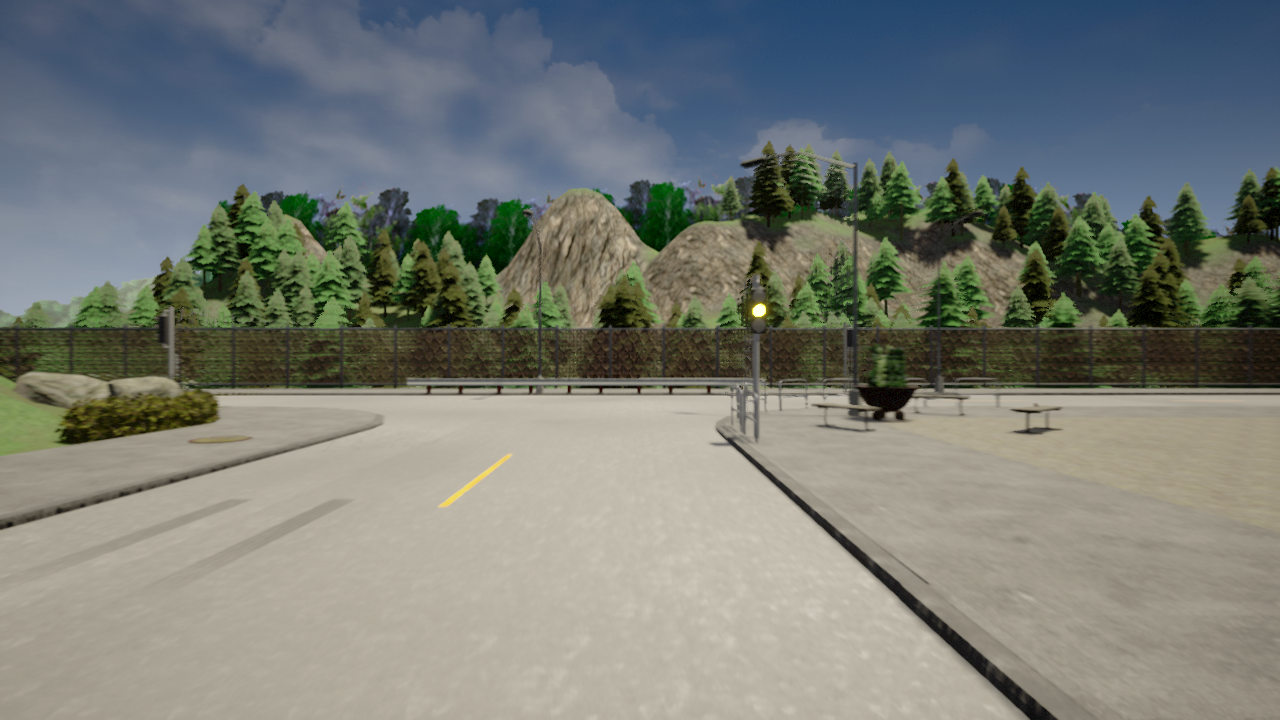yellow: (749, 286, 770, 334)
